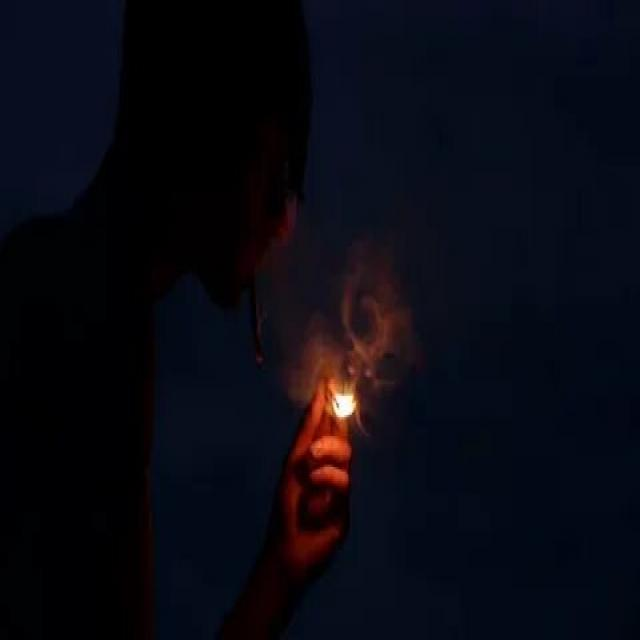cigarette: (244, 266, 269, 372)
